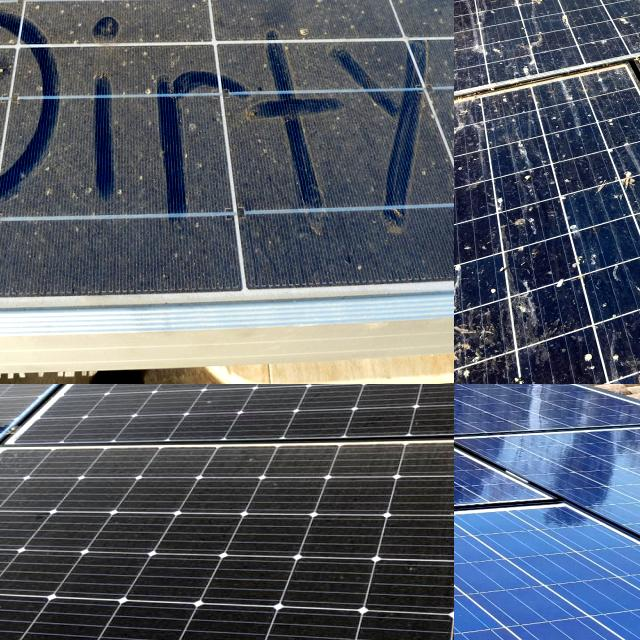bird: (492, 180, 543, 240), (583, 341, 640, 384), (603, 140, 640, 203), (505, 288, 547, 342), (454, 325, 492, 384), (518, 0, 552, 24), (563, 0, 601, 17)
crack: (137, 466, 454, 636), (41, 533, 302, 640), (109, 384, 454, 463), (71, 384, 454, 451), (486, 520, 640, 640), (454, 535, 535, 625), (454, 538, 524, 635), (548, 449, 640, 521), (454, 411, 526, 495), (454, 426, 506, 518), (454, 583, 527, 640), (454, 405, 504, 488), (454, 384, 507, 425)
dust: (17, 98, 215, 210), (236, 100, 447, 197), (0, 225, 230, 284), (247, 212, 454, 270), (0, 107, 79, 214), (192, 0, 344, 49), (20, 54, 196, 94), (55, 0, 167, 57), (222, 46, 402, 80), (0, 228, 76, 296), (38, 0, 197, 31), (369, 0, 454, 52), (0, 12, 95, 51), (209, 0, 352, 25), (0, 52, 91, 85), (0, 0, 53, 52), (0, 0, 76, 29), (388, 0, 454, 28), (0, 0, 24, 56)
